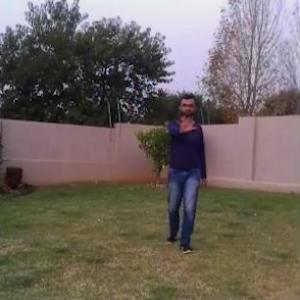follow_hand: (176, 110, 197, 134)
